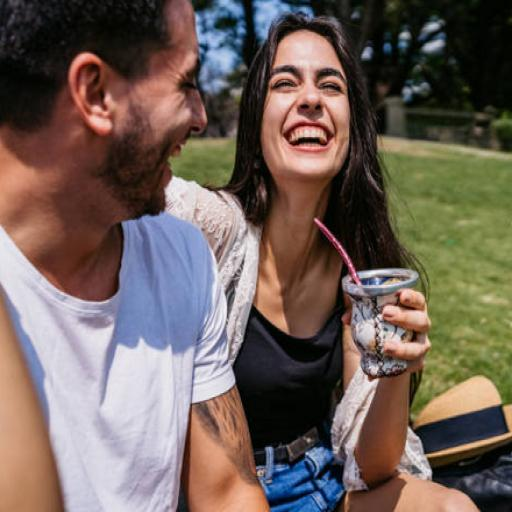mate: (315, 217, 417, 376)
